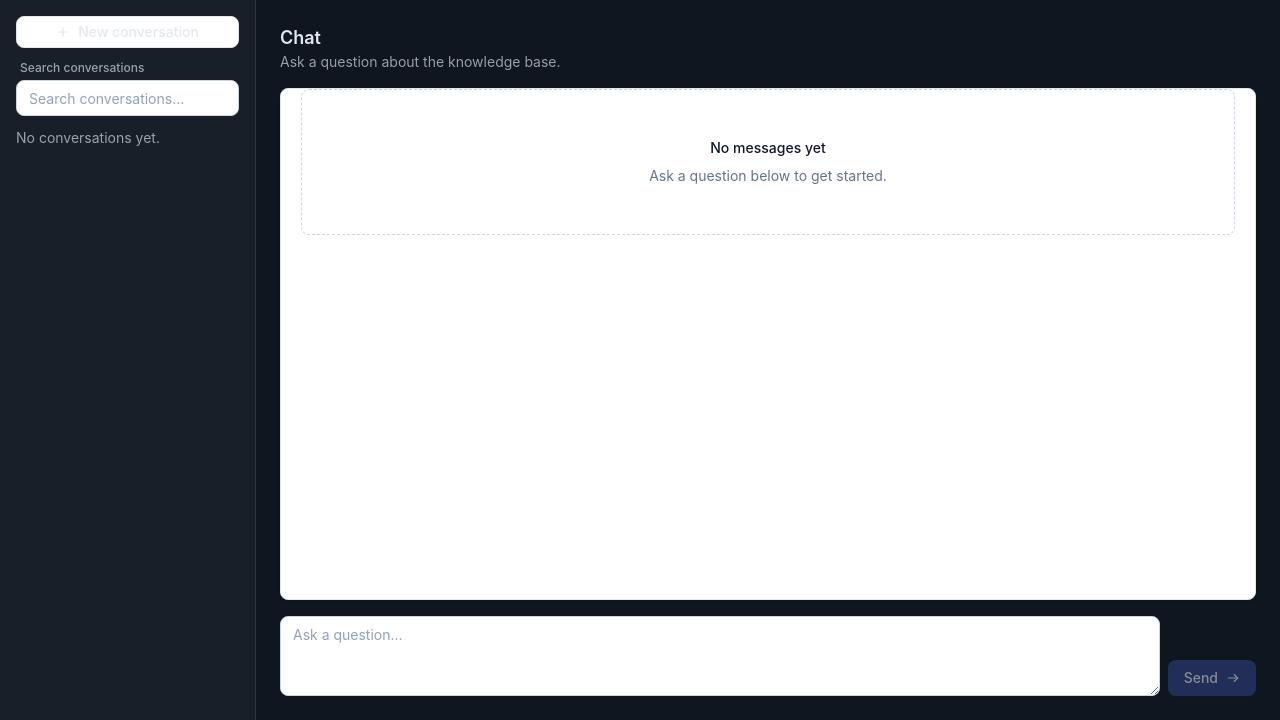
Test case: Chat screen › shows a pending state while a request is in flight and a second submit cannot duplicate it
Check: the text "No messages yet" is shown, box [710, 138, 826, 158]
Type "Slow question" into the text box with placeholder "Ask a question…". click: [720, 656]
box: [280, 616, 1160, 696]
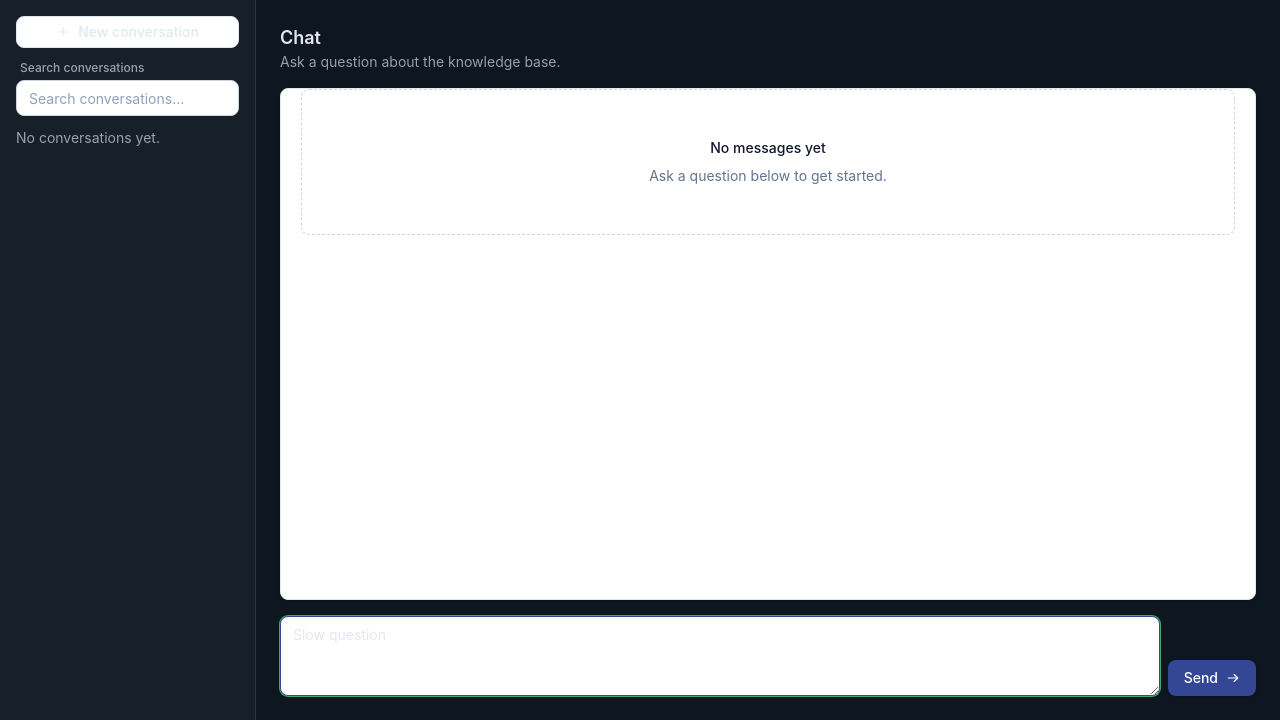
Click the button "Send". click: [1212, 678]
box: [1168, 660, 1256, 696]
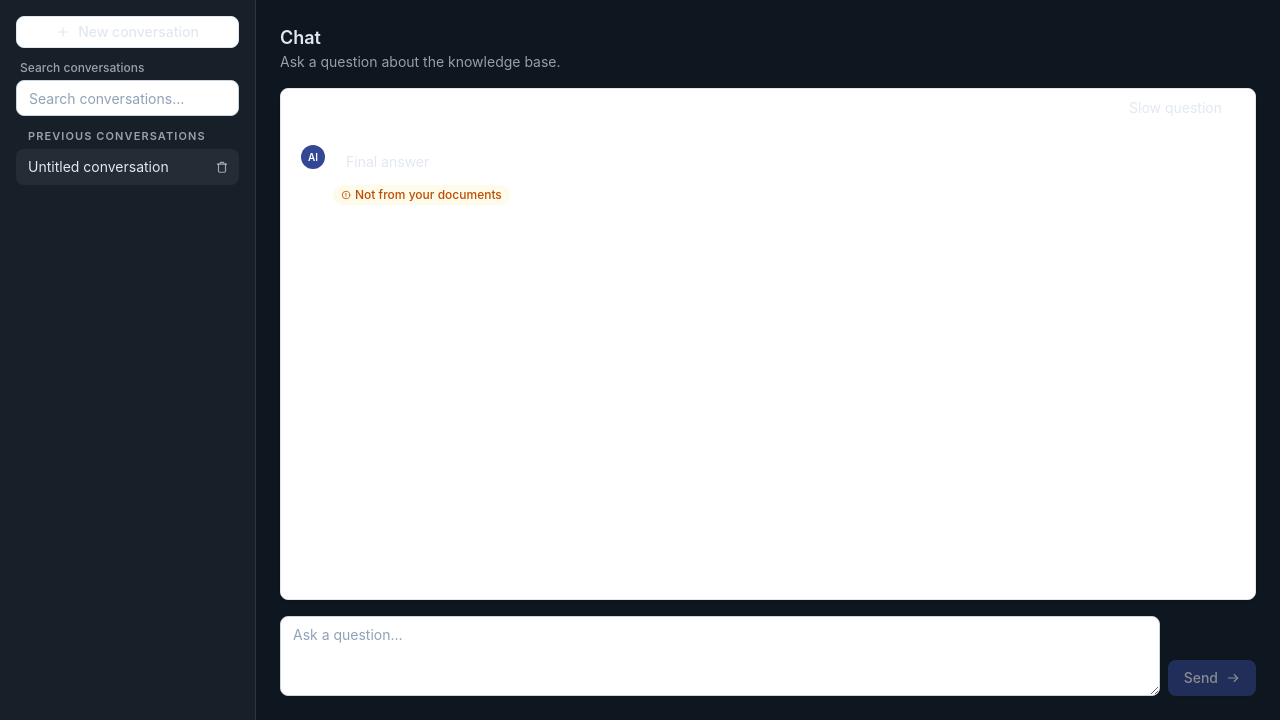
Check: the button named "sending" is disabled, box [1168, 660, 1256, 696]
Check: the text "Final answer" is shown, box [333, 143, 442, 181]
